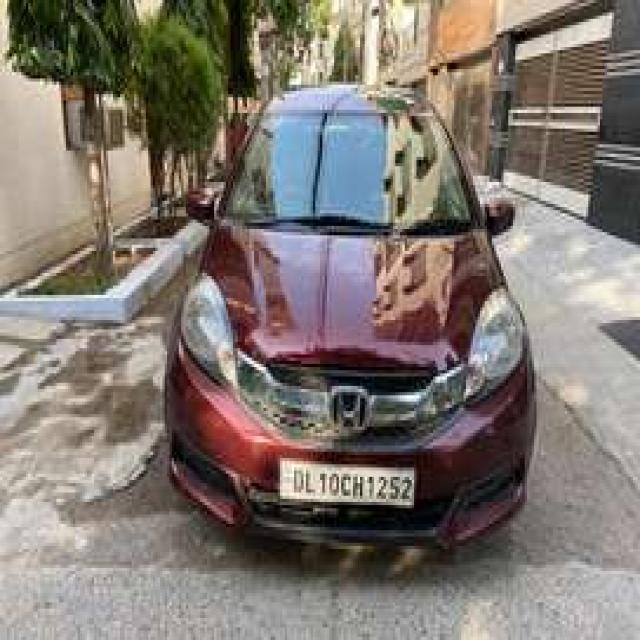license-plate: (275, 458, 412, 502)
